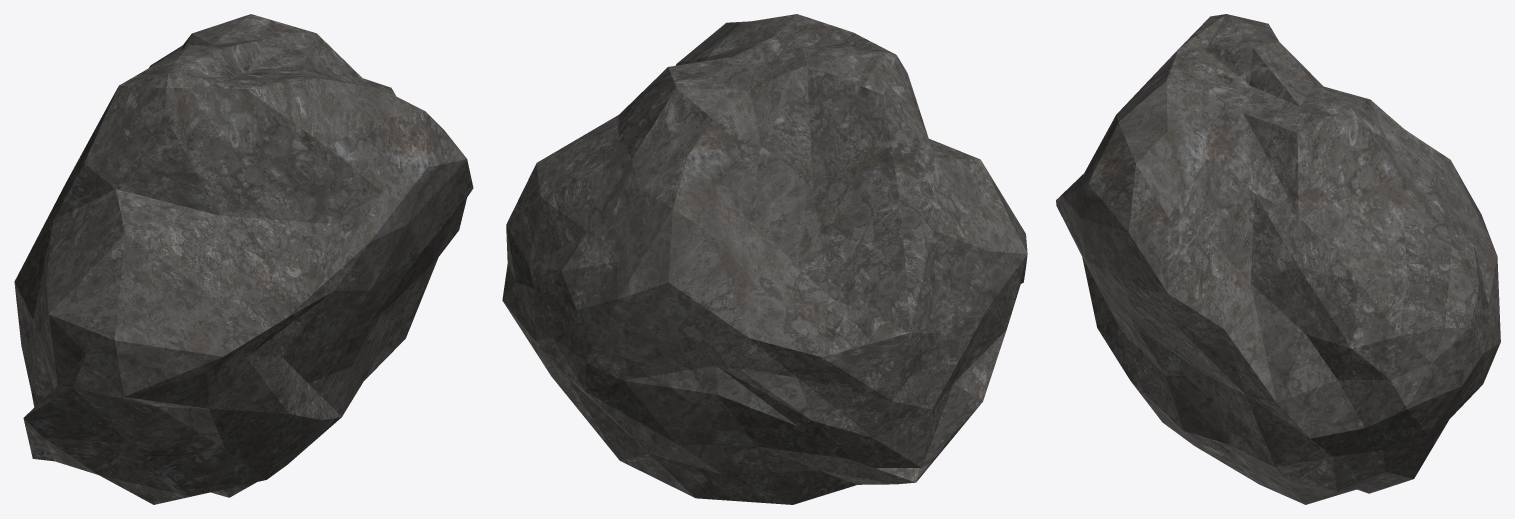
Rendered from SNSS_Lmain_Asteroid005.fbx.
The picture shows the model from 3 angles, left to right: view 1: azimuth 30°, elevation 25°; view 2: azimuth 150°, elevation 25°; view 3: azimuth 270°, elevation 25°; orthographic projection. The views are drawn at different scales.
Parts seen in each view (by area): view 1: Asteriod_05, Asteriod_006_Part_6, Asteriod_006_Part_8, Asteriod_006_Part_7, Asteriod_006_Part_4, Asteriod_006_Part_1, Asteriod_006_Part_13, Asteriod_006_Part_10, Asteriod_006_Part_14, Asteriod_006_Part_12, Asteriod_006_Part_19, Asteriod_006_Part_5; view 2: Asteriod_05, Asteriod_006_Part_17, Asteriod_006_Part_13, Asteriod_006_Part_20, Asteriod_006_Part_14, Asteriod_006_Part_2, Asteriod_006_Part_8, Asteriod_006_Part_3, Asteriod_006_Part_11, Asteriod_006_Part_10, Asteriod_006_Part_4, Asteriod_006_Part_16 (+3 smaller); view 3: Asteriod_05, Asteriod_006_Part_12, Asteriod_006_Part_9, Asteriod_006_Part_4, Asteriod_006_Part_5, Asteriod_006_Part_19, Asteriod_006_Part_17, Asteriod_006_Part_18, Asteriod_006_Part_1, Asteriod_006_Part_13, Asteriod_006_Part_7, Asteriod_006_Part_11 (+1 smaller).
Part boxes in pixels (x1=…): Asteriod_05: x1=14, y1=14, x2=473, y2=504; Asteriod_006_Part_6: x1=111, y1=126, x2=347, y2=378; Asteriod_006_Part_8: x1=19, y1=231, x2=200, y2=407; Asteriod_006_Part_7: x1=215, y1=124, x2=426, y2=310; Asteriod_006_Part_4: x1=217, y1=25, x2=456, y2=201; Asteriod_006_Part_1: x1=157, y1=295, x2=388, y2=477; Asteriod_006_Part_13: x1=100, y1=14, x2=277, y2=155; Asteriod_006_Part_10: x1=24, y1=333, x2=184, y2=490; Asteriod_006_Part_14: x1=19, y1=127, x2=143, y2=274; Asteriod_006_Part_12: x1=299, y1=30, x2=466, y2=293; Asteriod_006_Part_19: x1=213, y1=271, x2=423, y2=497; Asteriod_006_Part_5: x1=409, y1=227, x2=459, y2=329; Asteriod_05: x1=502, y1=14, x2=1027, y2=504; Asteriod_006_Part_17: x1=578, y1=115, x2=784, y2=356; Asteriod_006_Part_13: x1=671, y1=38, x2=921, y2=212; Asteriod_006_Part_20: x1=587, y1=350, x2=786, y2=475; Asteriod_006_Part_14: x1=761, y1=119, x2=967, y2=319; Asteriod_006_Part_2: x1=787, y1=298, x2=924, y2=409; Asteriod_006_Part_8: x1=916, y1=174, x2=1026, y2=367; Asteriod_006_Part_3: x1=763, y1=307, x2=847, y2=470; Asteriod_006_Part_11: x1=560, y1=385, x2=765, y2=502; Asteriod_006_Part_10: x1=794, y1=360, x2=988, y2=501; Asteriod_006_Part_4: x1=677, y1=14, x2=863, y2=73; Asteriod_006_Part_16: x1=519, y1=291, x2=628, y2=394; Asteriod_05: x1=1056, y1=14, x2=1500, y2=504; Asteriod_006_Part_12: x1=1110, y1=117, x2=1324, y2=377; Asteriod_006_Part_9: x1=1276, y1=115, x2=1425, y2=359; Asteriod_006_Part_4: x1=1081, y1=46, x2=1322, y2=237; Asteriod_006_Part_5: x1=1227, y1=352, x2=1431, y2=470; Asteriod_006_Part_19: x1=1153, y1=333, x2=1342, y2=502; Asteriod_006_Part_17: x1=1367, y1=114, x2=1498, y2=295; Asteriod_006_Part_18: x1=1380, y1=238, x2=1484, y2=396; Asteriod_006_Part_1: x1=1078, y1=248, x2=1191, y2=443; Asteriod_006_Part_13: x1=1187, y1=14, x2=1386, y2=123; Asteriod_006_Part_7: x1=1060, y1=163, x2=1125, y2=304; Asteriod_006_Part_11: x1=1340, y1=398, x2=1466, y2=492.
Bounding box in the file's own units: 727 × 698 × 648.
